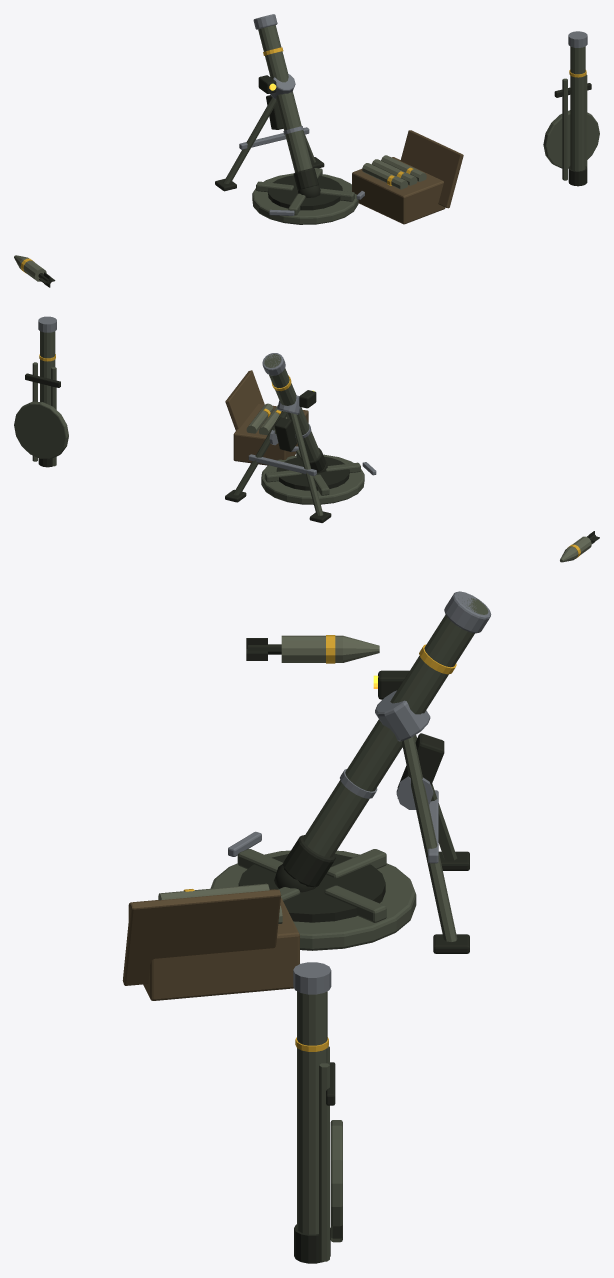
File: td_mortar.glb
3 renders of one model, top to bottom at view 1: azimuth 30°, elevation 25°; view 2: azimuth 150°, elevation 25°; view 3: azimuth 270°, elevation 25°, orthographic. The views are drawn at different scales.
Parts seen in each view (by area): view 1: MortarBase, MortarCarry, MortarTube, MortarShell; view 2: MortarBase, MortarCarry, MortarTube, MortarShell; view 3: MortarBase, MortarCarry, MortarTube, MortarShell.
Part boxes in pixels (box(x1,y1,x2,y2)): MortarBase: box(215, 74, 463, 224); MortarCarry: box(543, 31, 599, 186); MortarTube: box(253, 14, 318, 190); MortarShell: box(14, 255, 55, 287); MortarBase: box(225, 370, 376, 522); MortarCarry: box(14, 316, 68, 467); MortarTube: box(262, 353, 325, 472); MortarShell: box(560, 531, 599, 562); MortarBase: box(122, 670, 469, 1000); MortarCarry: box(293, 962, 342, 1263); MortarTube: box(282, 591, 491, 887); MortarShell: box(246, 635, 379, 663).
Size of the model in its own units: 4.25 by 1.45 by 1.2.
